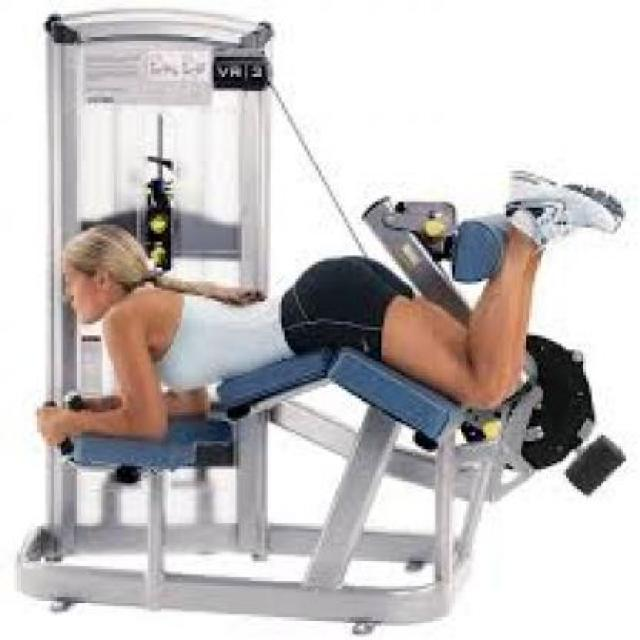reg curl machine: (22, 12, 626, 640)
